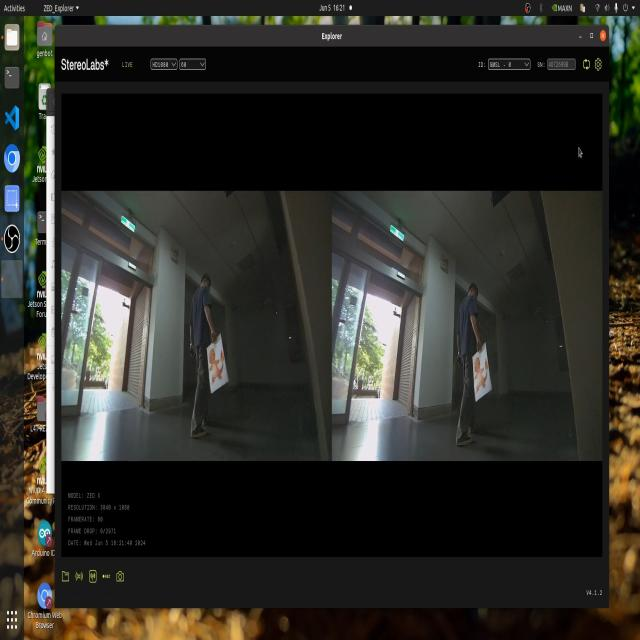red: (203, 341, 236, 391), (468, 353, 500, 401)
